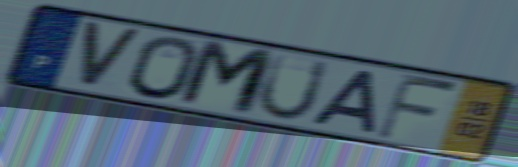A: (306, 67, 379, 136)
F: (372, 70, 462, 143)
M: (174, 37, 281, 120)
O: (126, 34, 202, 102)
U: (254, 51, 333, 122)
V: (78, 18, 145, 92)
